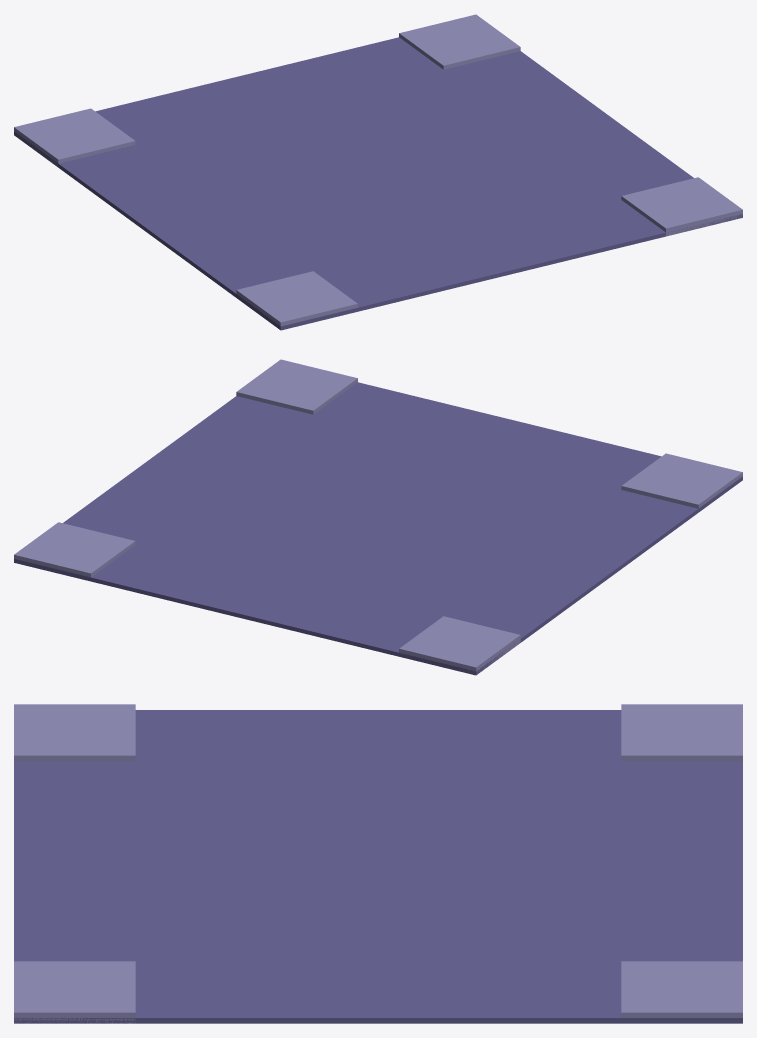
Rendered from Road_Cross.fbx.
3 views of the same model, one above another, from view 1: azimuth 30°, elevation 25°; view 2: azimuth 150°, elevation 25°; view 3: azimuth 270°, elevation 25° (orthographic). The views are drawn at different scales.
Visible parts, largest first — view 1: mergedBlocks; view 2: mergedBlocks; view 3: mergedBlocks.
Part boxes in pixels (<box>): mergedBlocks: <box>14,14,742,330</box>; mergedBlocks: <box>14,359,742,675</box>; mergedBlocks: <box>14,704,742,1023</box>.
Size of the model in its own units: 150 by 2.5 by 150.
